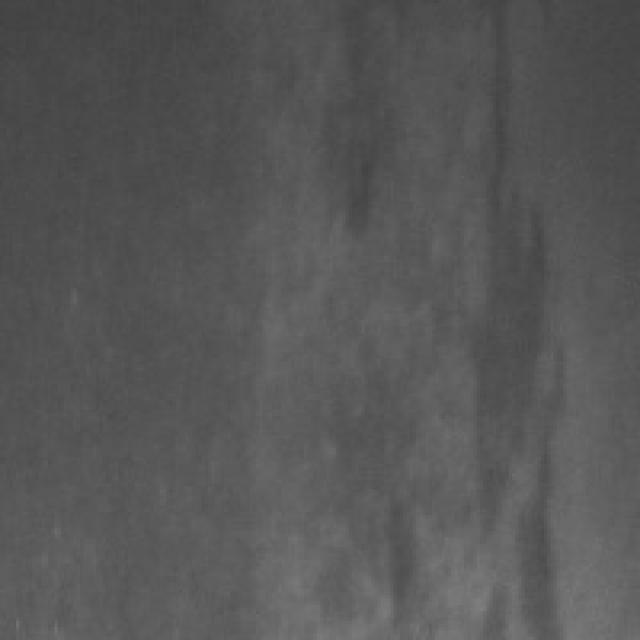inclusion: (457, 0, 566, 630), (301, 381, 438, 630), (311, 0, 404, 243)
